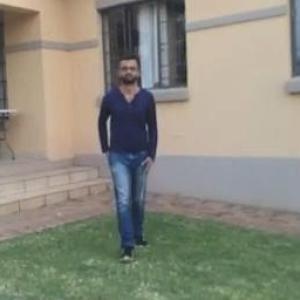follow: (95, 39, 159, 233)
